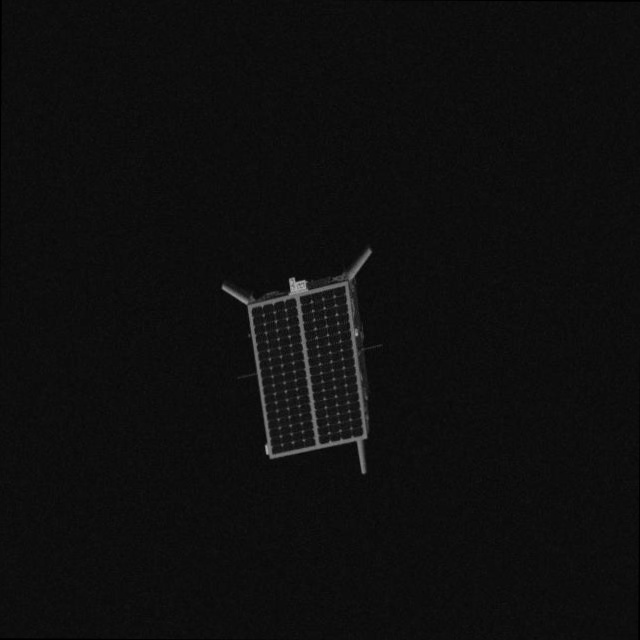satellite: (213, 243, 386, 476)
